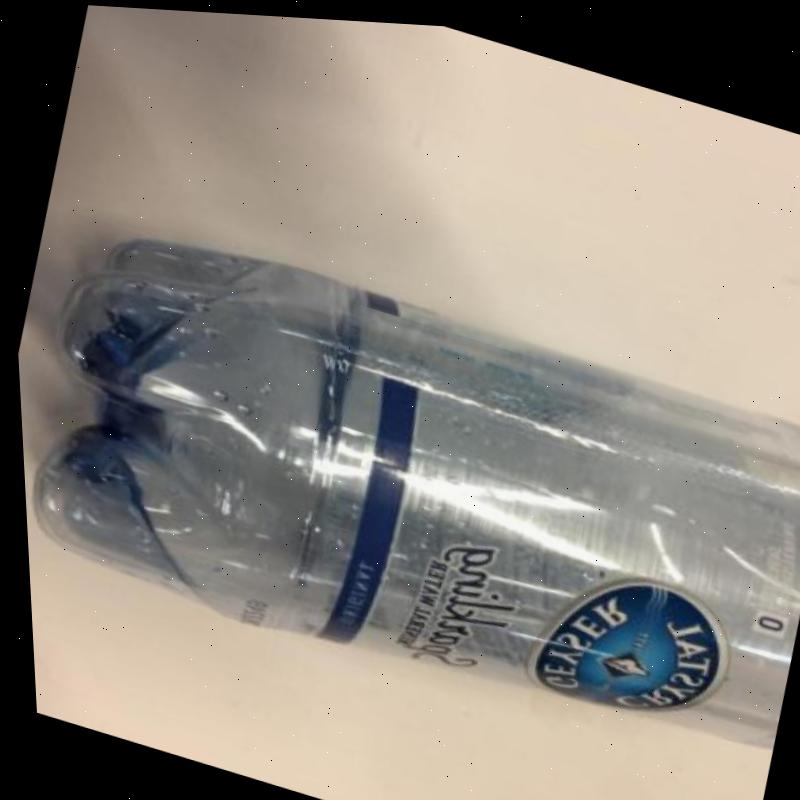botella: (8, 196, 800, 775)
